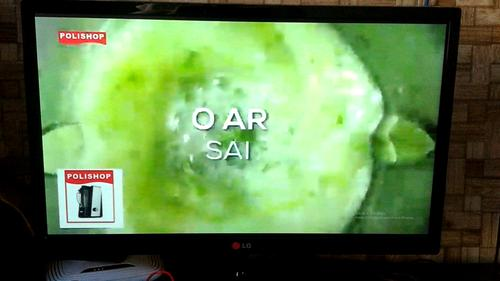Polishop #1: (56, 169, 124, 228)
